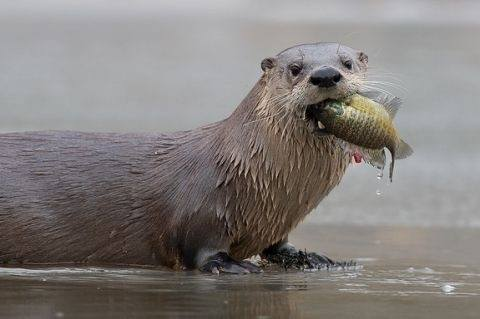otter: (1, 38, 428, 269)
